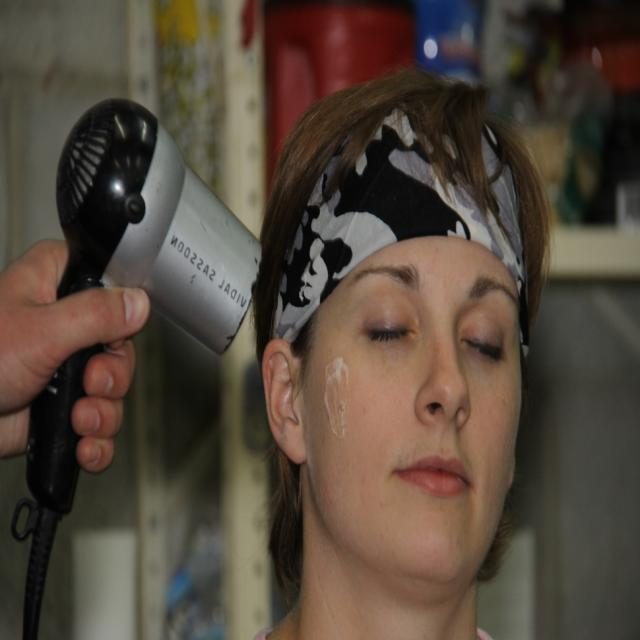dryer: (0, 80, 268, 575)
